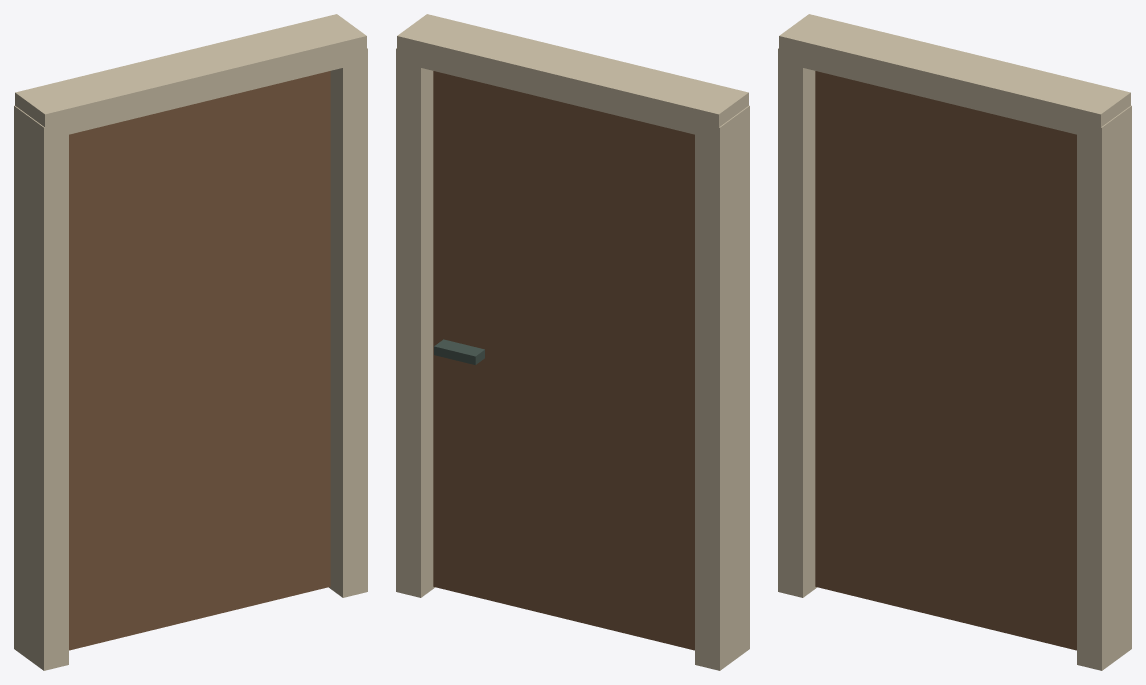
File: door.glb
3 views of the same model, side by side, from view 1: azimuth 30°, elevation 25°; view 2: azimuth 150°, elevation 25°; view 3: azimuth 330°, elevation 25° (orthographic).
Visible parts, largest first — view 1: hinge, door; view 2: hinge, door; view 3: hinge, door.
Part boxes in pixels (x1,y1,x2,y2): hinge: (69,71,330,650); door: (14,14,367,670); hinge: (433,71,694,650); door: (396,14,749,670); hinge: (815,71,1076,650); door: (778,14,1131,670).
Bounding box in the file's own units: 1.56 × 2.56 × 0.25.
